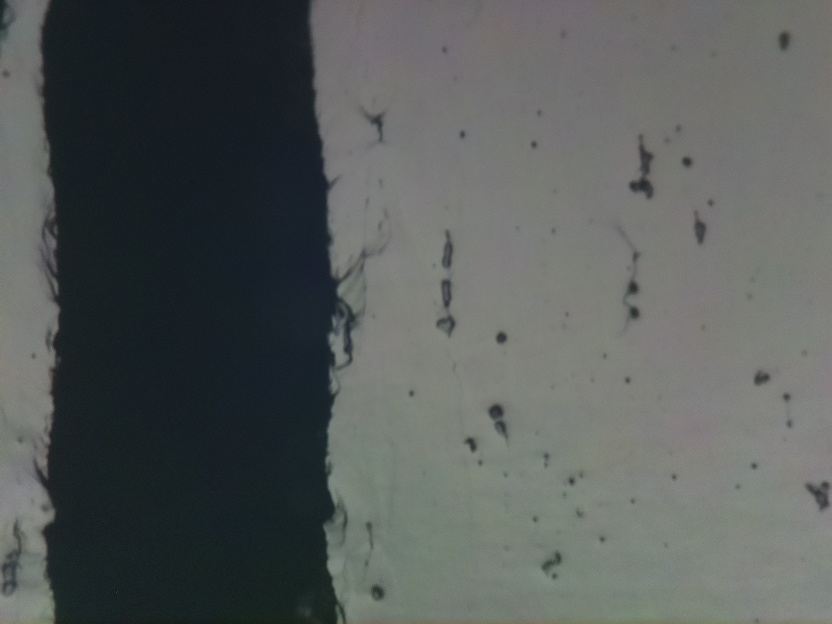crack: (39, 0, 345, 624)
